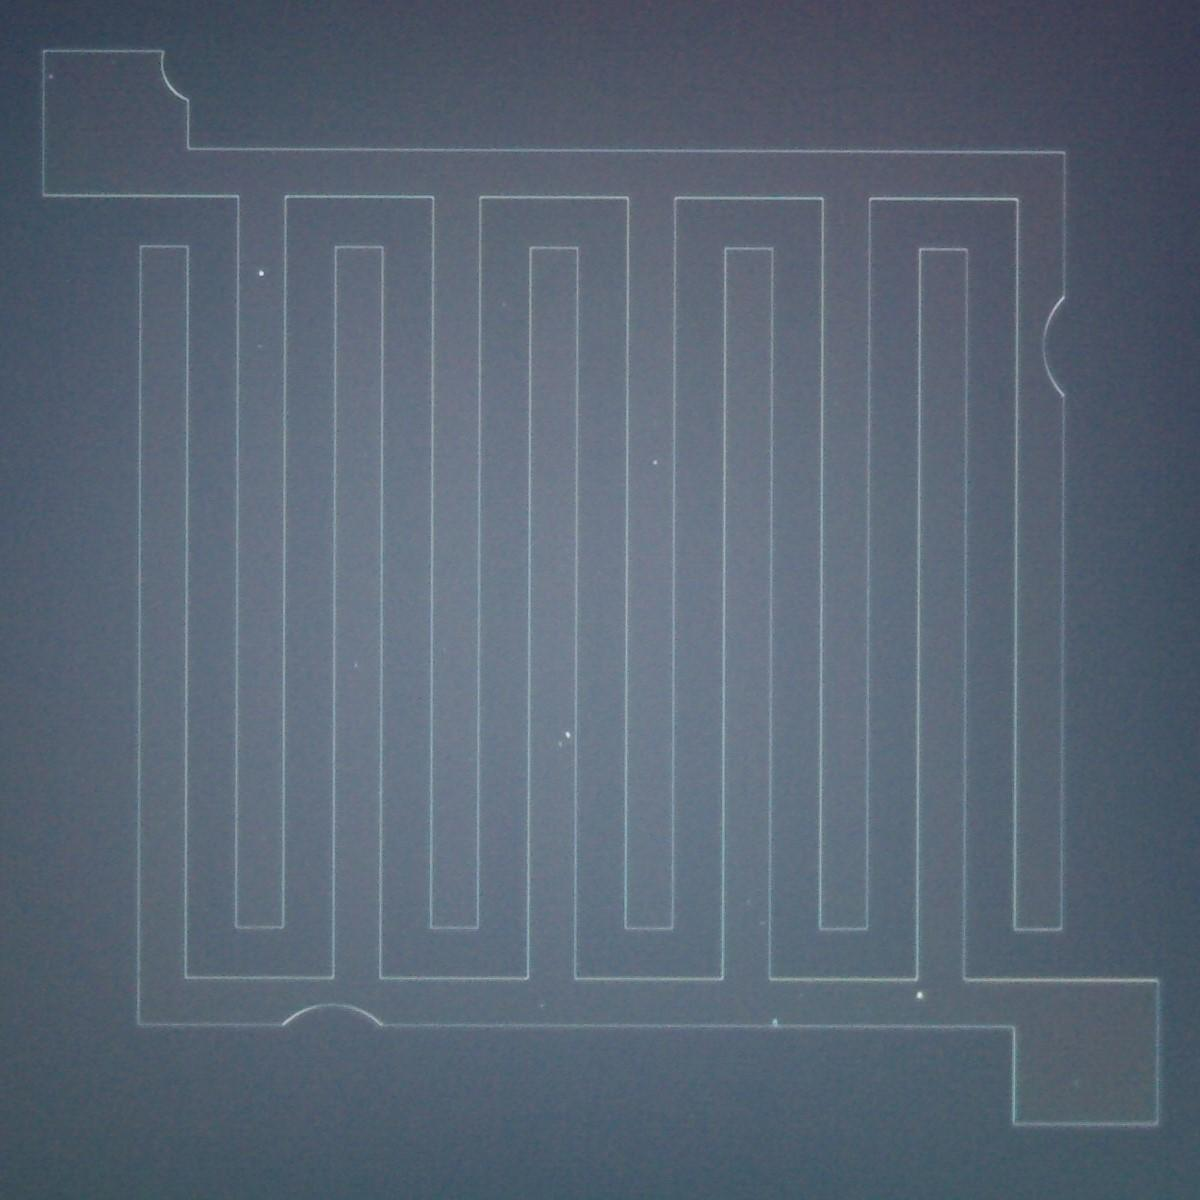B_point: (914, 990, 925, 1001)
cut: (1034, 291, 1102, 412), (269, 993, 399, 1055), (149, 35, 210, 115)
s_point: (499, 299, 511, 311), (535, 1001, 547, 1013), (649, 457, 662, 469), (45, 71, 57, 84), (254, 340, 266, 352), (256, 267, 267, 279), (769, 1015, 780, 1027), (554, 738, 566, 749), (1070, 1077, 1081, 1089), (563, 730, 574, 741), (349, 660, 362, 670), (743, 896, 753, 908), (757, 918, 767, 929)
